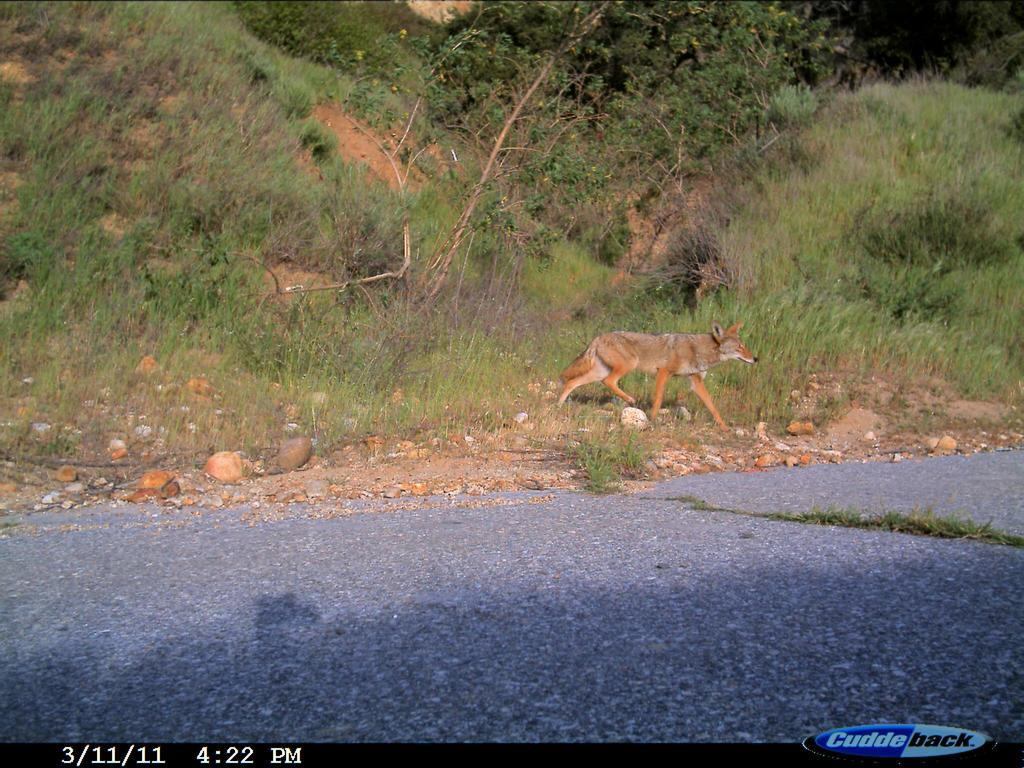coyote: (550, 309, 766, 441)
